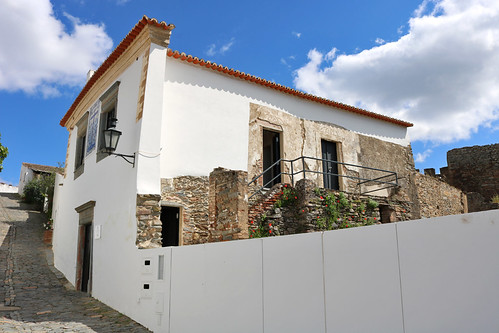medium: (58, 18, 419, 307)
